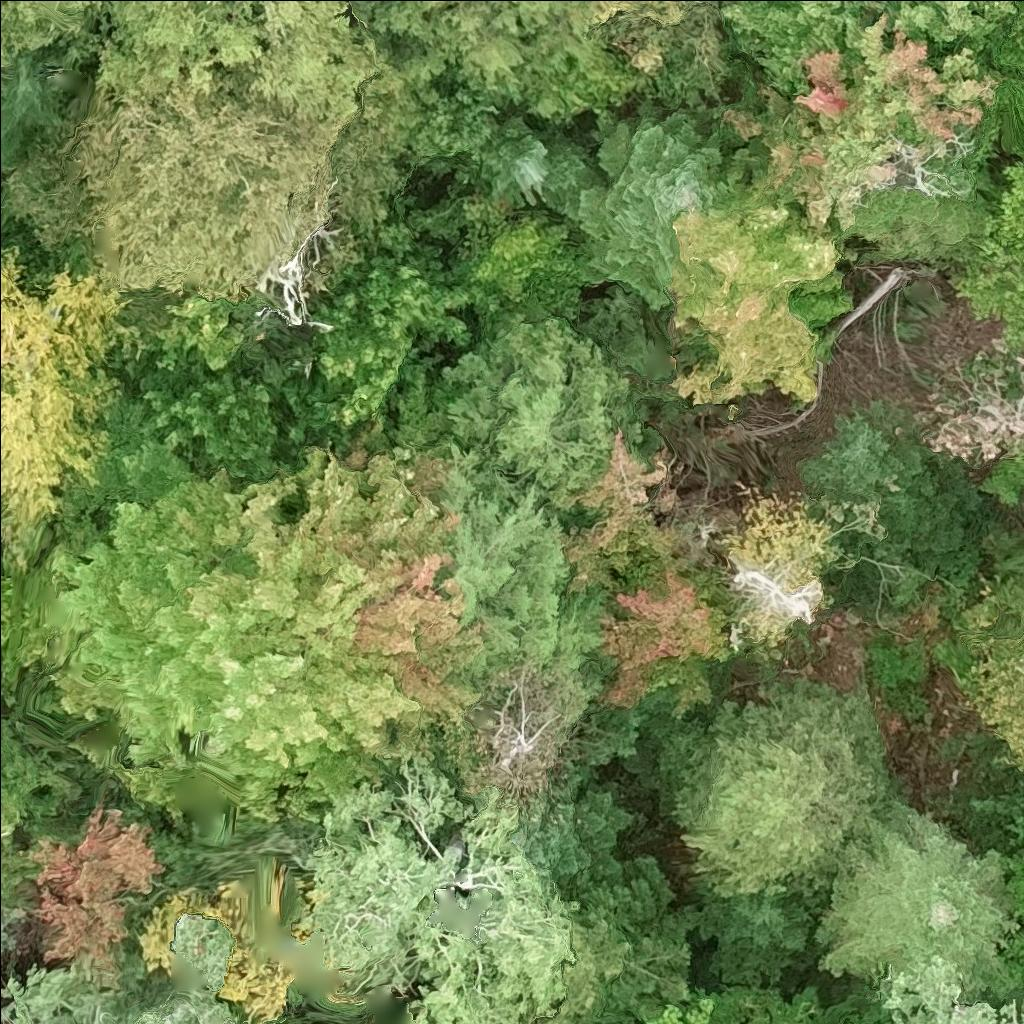crown: (9, 427, 489, 783), (3, 65, 346, 306), (302, 751, 583, 1023), (718, 0, 997, 232), (645, 674, 895, 897), (554, 429, 740, 719), (0, 241, 144, 546), (433, 439, 616, 677), (562, 96, 758, 313), (432, 308, 645, 505), (814, 801, 1023, 995), (667, 178, 841, 408), (91, 0, 391, 125), (306, 248, 483, 430), (799, 399, 986, 559), (353, 0, 605, 105), (537, 855, 693, 1023), (17, 800, 169, 967), (100, 348, 278, 487), (0, 711, 83, 903), (716, 483, 854, 591), (944, 157, 1023, 340), (683, 889, 827, 988), (475, 113, 599, 226), (507, 780, 633, 888), (962, 574, 1023, 777), (872, 957, 1023, 1023), (0, 45, 69, 173), (891, 0, 1023, 54), (0, 572, 37, 706), (0, 0, 60, 69), (14, 0, 117, 28), (589, 0, 686, 24), (642, 997, 716, 1023)
